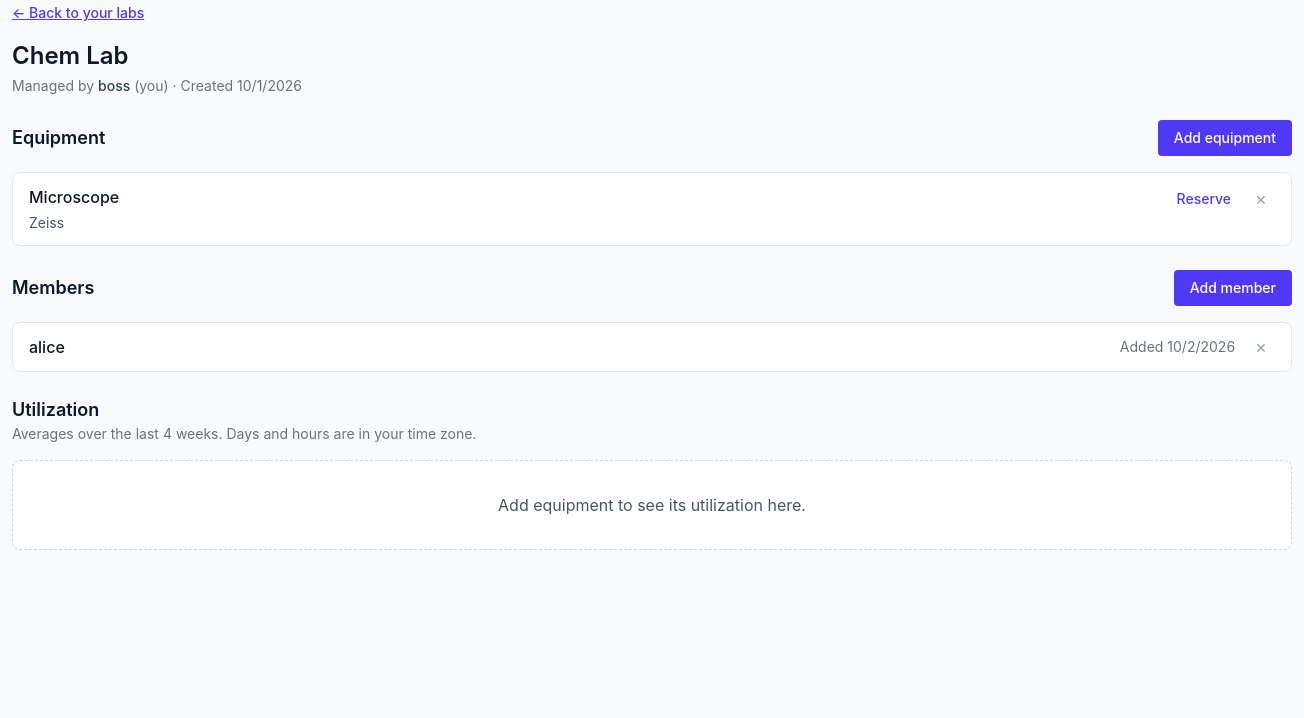
Test: equipment › adds equipment, keeps the list sorted and closes the form
Expected: the text "Microscope" is shown, [29, 185, 119, 209]
Click the button "Add equipment" at [1225, 138], box [1158, 120, 1292, 156]
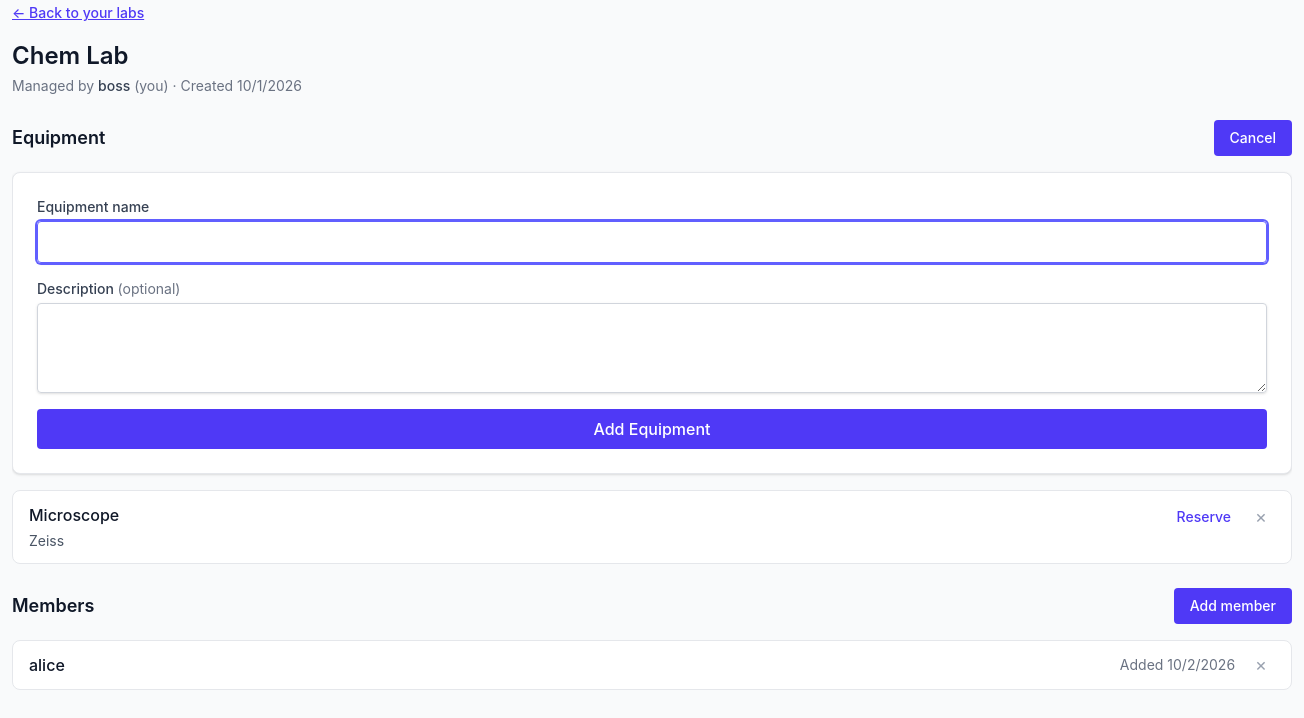
Type "Centrifuge" into the field labelled "Equipment name" at [652, 242], box [37, 221, 1267, 263]
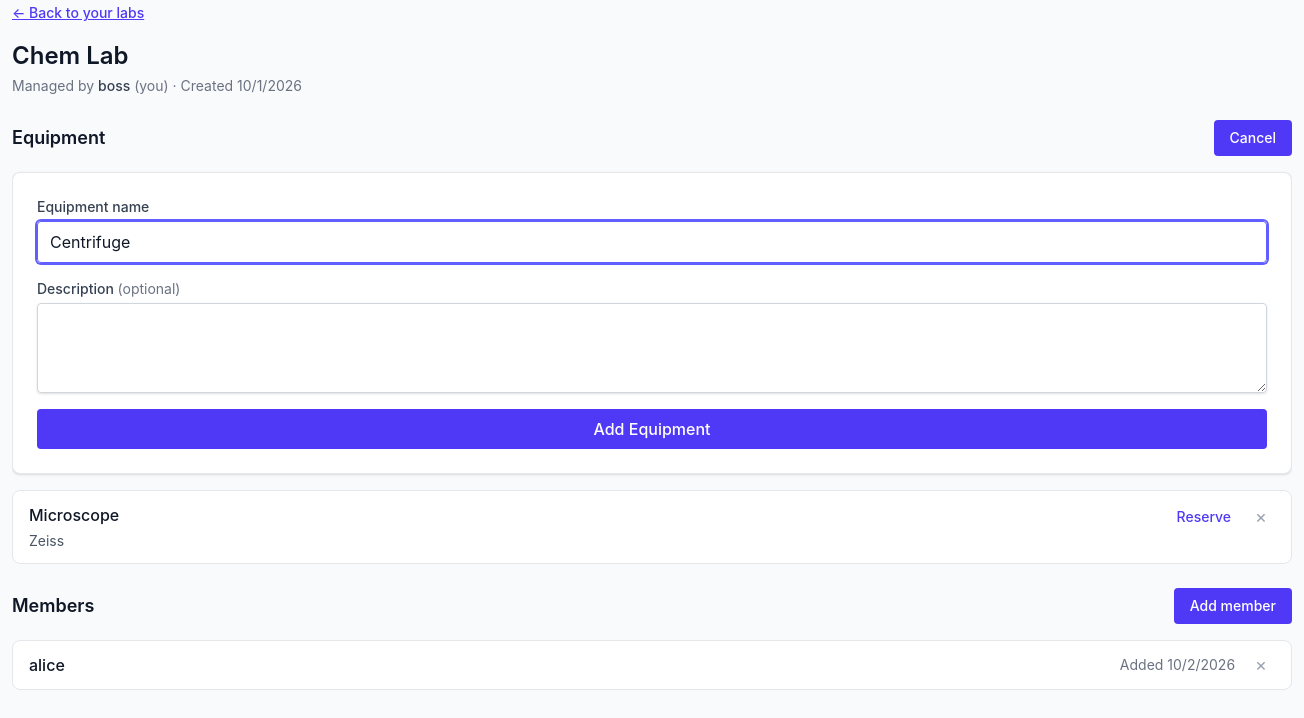
Type "Fast" into the text box labelled "Description (optional)" at [652, 348], box [37, 303, 1267, 393]
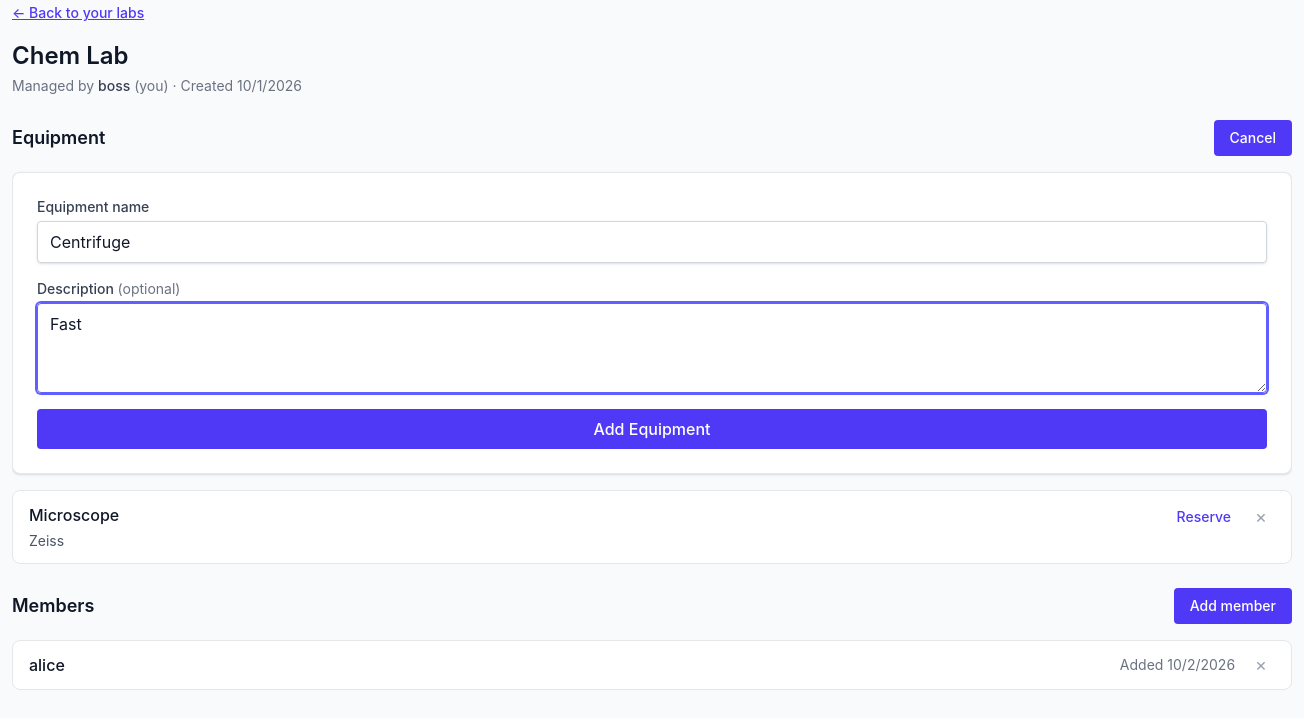
Click the button "Add Equipment" at [652, 429], box [37, 409, 1267, 449]
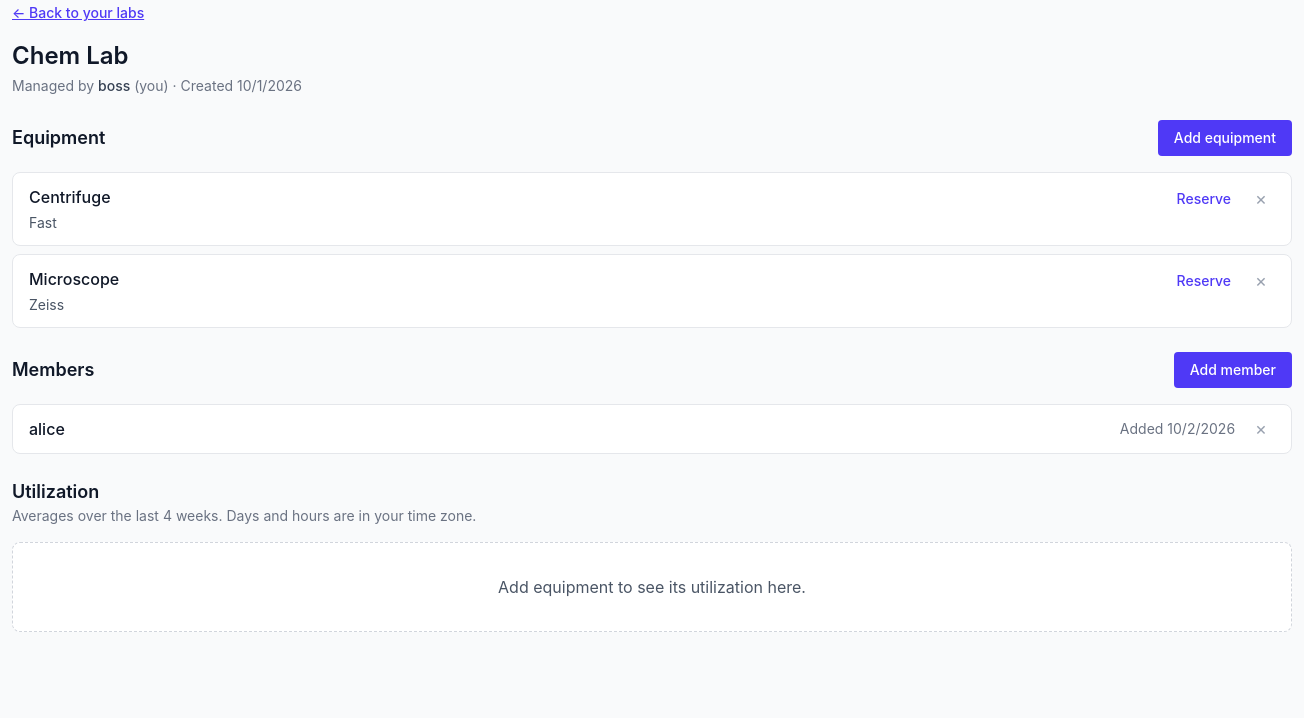
Result: the label labelled "Equipment name" is gone
